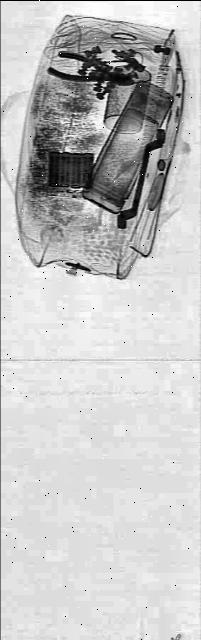Pliers: (46, 46, 132, 96)
